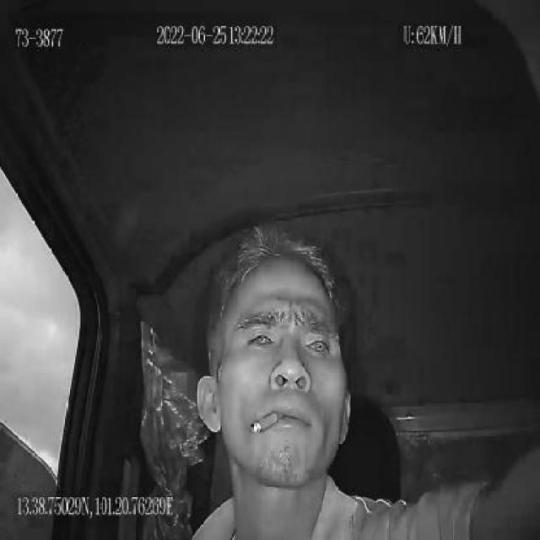smoking: (250, 410, 285, 436)
